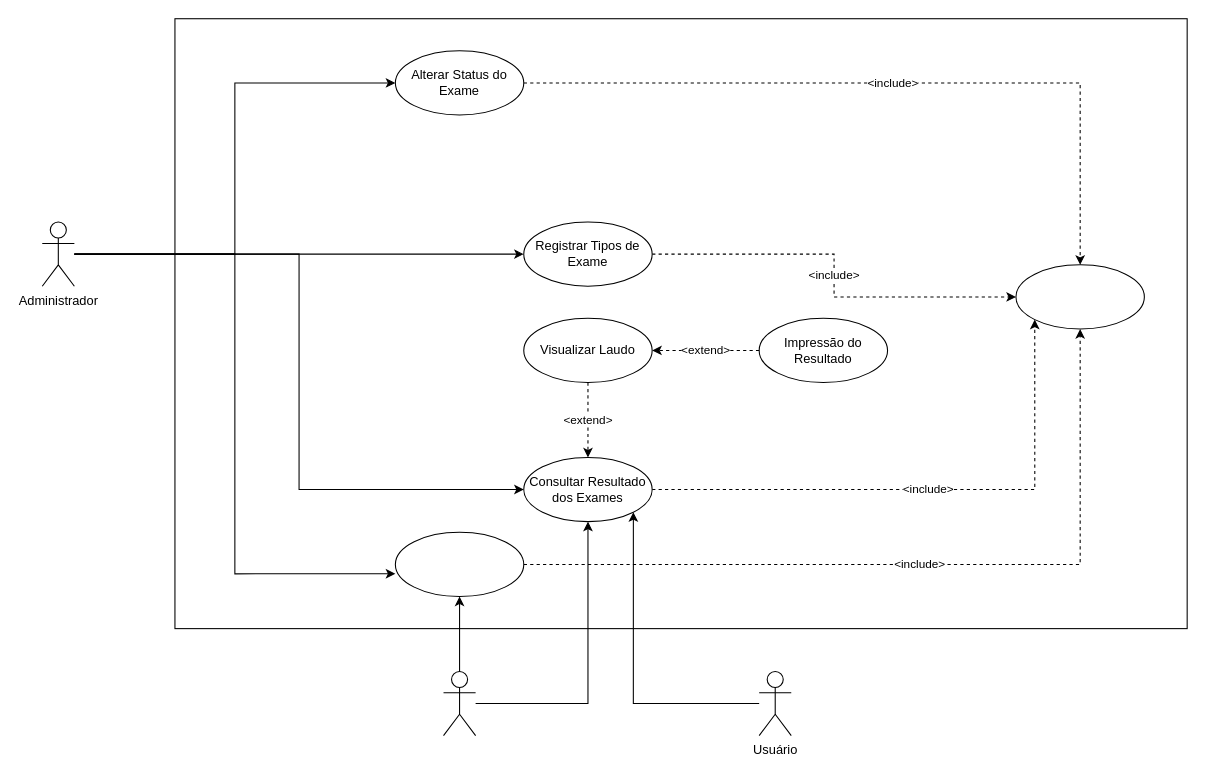
This 1206x777 diagram has some shape labels left out. Here are the shapes that lost their labels. From the top down, the centre of each, then its label:
At point 1079,296: "Efetuar Login".
At point 459,564: "Registrar Pessoas".
At point 459,703: "Moderador".
